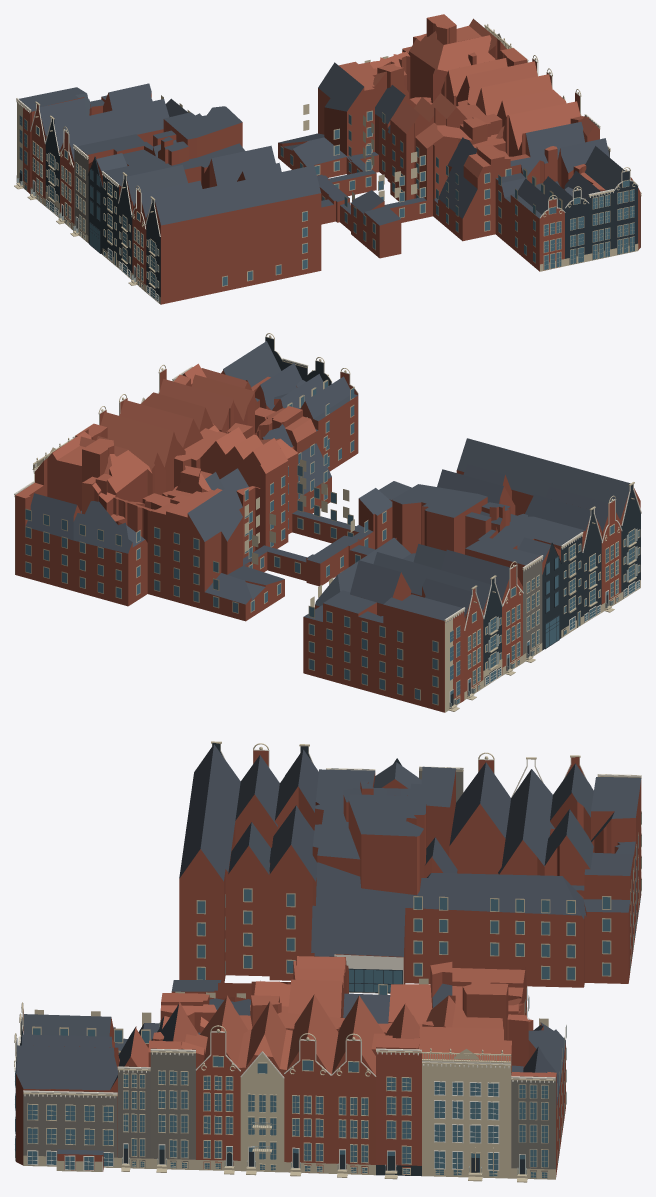
File: pulitzer-amsterdam.glb
The picture shows the model from 3 angles, top to bottom: view 1: azimuth 30°, elevation 25°; view 2: azimuth 150°, elevation 25°; view 3: azimuth 270°, elevation 25°; orthographic projection. The views are drawn at different scales.
Visible parts, largest first — view 1: pulitzer-amsterdam; view 2: pulitzer-amsterdam; view 3: pulitzer-amsterdam.
Boxes of the visible parts, <box> form: pulitzer-amsterdam: <box>14,14,641,304</box>; pulitzer-amsterdam: <box>14,333,641,712</box>; pulitzer-amsterdam: <box>14,741,641,1182</box>.
Bounding box in the file's own units: 90.62 × 21.69 × 79.55.
